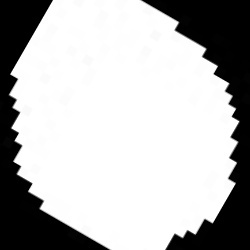spot: (9, 1, 238, 250)
